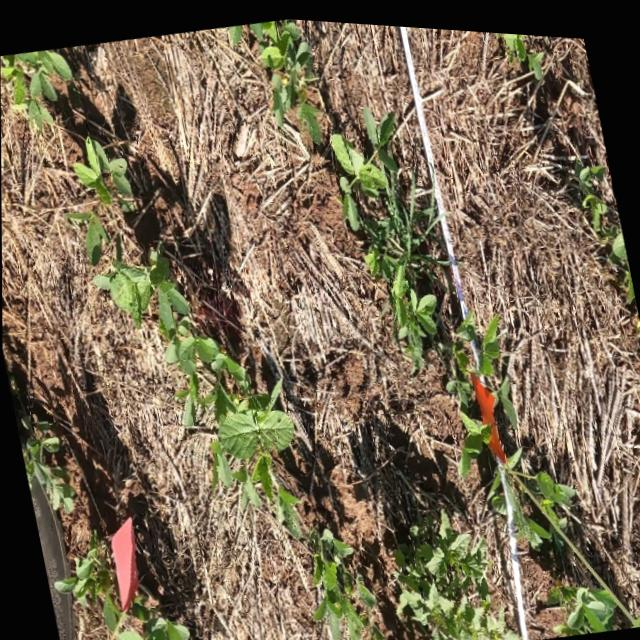caruru_weed: (393, 506, 519, 640)
grassy_weed: (331, 104, 445, 362)
soy_plant: (68, 136, 301, 534), (53, 532, 189, 640), (250, 15, 322, 138), (574, 148, 635, 293), (446, 311, 500, 469), (308, 526, 376, 638), (506, 441, 574, 541), (3, 49, 72, 125), (21, 423, 73, 511), (552, 577, 619, 629), (496, 26, 544, 72), (491, 370, 516, 419), (488, 465, 504, 505), (629, 607, 640, 619)
